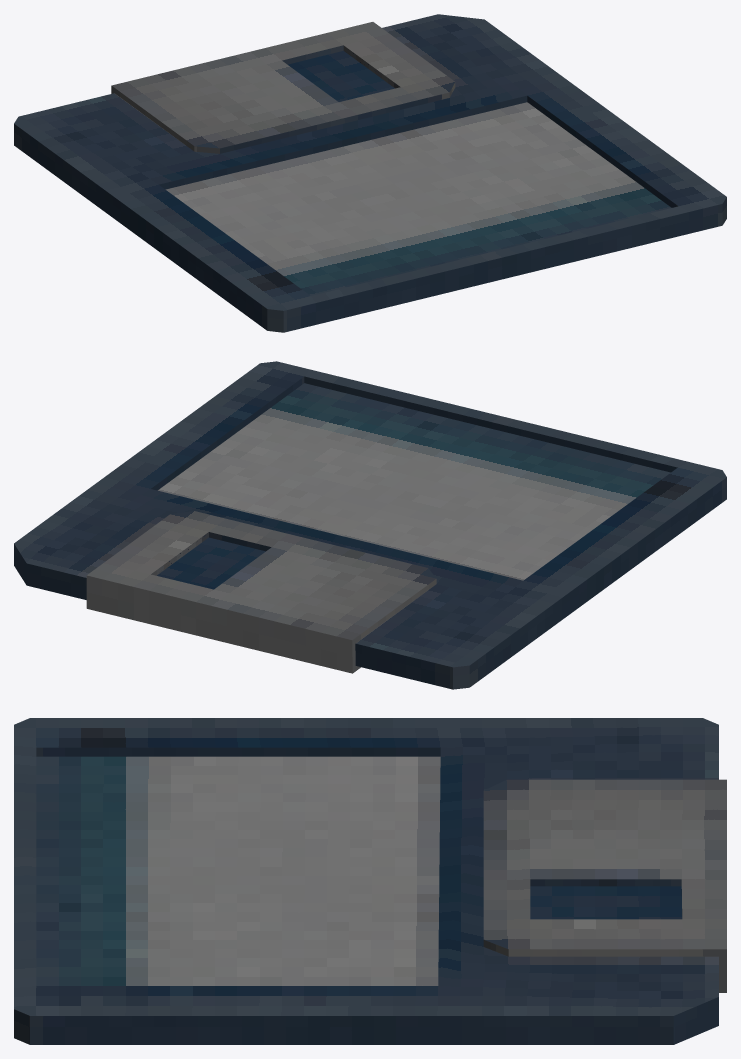
Rendered from floppy_disc_1.glb.
The picture shows the model from 3 angles, top to bottom: view 1: azimuth 30°, elevation 25°; view 2: azimuth 150°, elevation 25°; view 3: azimuth 270°, elevation 25°; orthographic projection. The views are drawn at different scales.
Visible parts, largest first — view 1: floppy_disc_1; view 2: floppy_disc_1; view 3: floppy_disc_1.
Part boxes in pixels (x1,y1,x2,y2): floppy_disc_1: (14, 14, 726, 332); floppy_disc_1: (14, 361, 726, 689); floppy_disc_1: (14, 718, 726, 1044).
Size of the model in its own units: 0.1584 by 0.0108 by 0.1602.
1 material, 1 textured.
